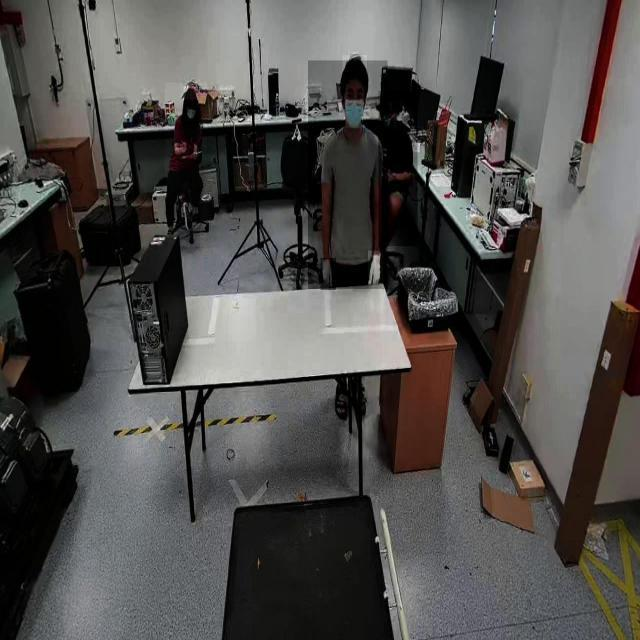gloves: (368, 250, 384, 286), (321, 258, 336, 290)
